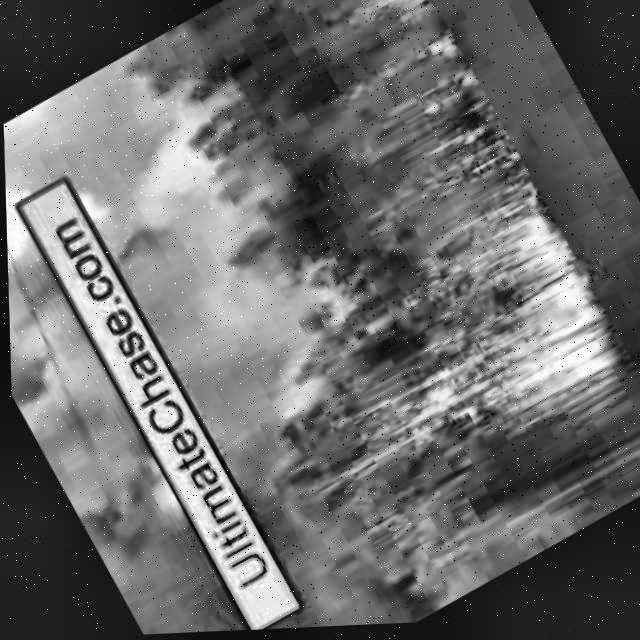Fire: (20, 35, 359, 500), (6, 242, 268, 640), (353, 183, 640, 483), (402, 62, 535, 216), (134, 463, 179, 522), (356, 0, 429, 31), (422, 35, 460, 67)
